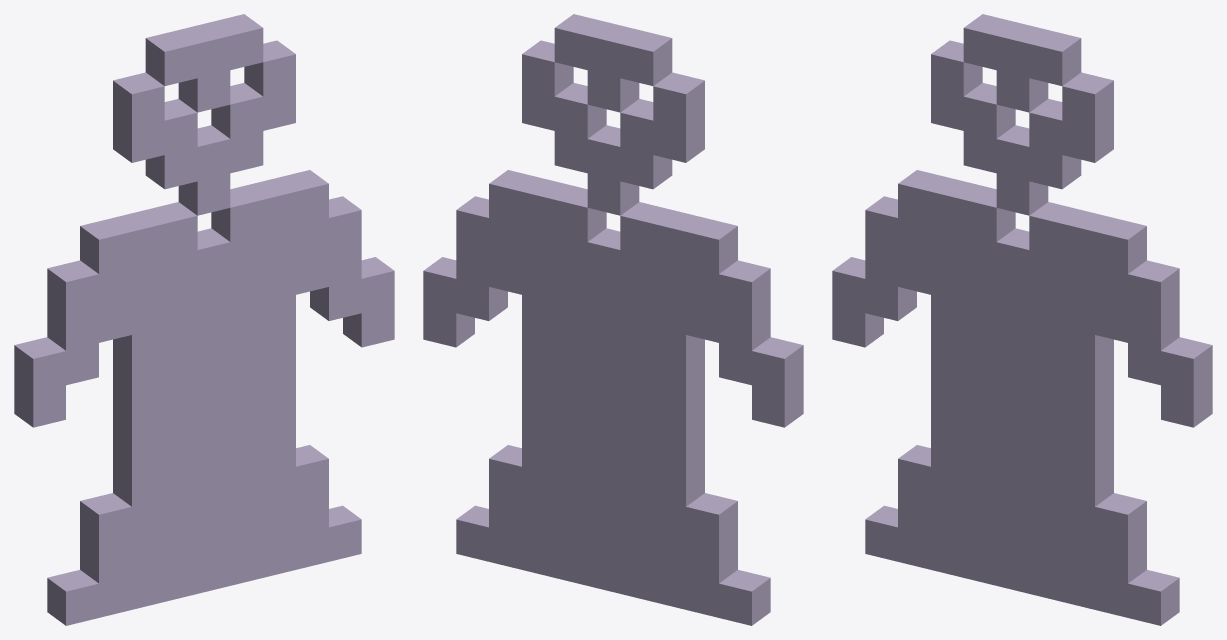
Rendered from Skeleton-Cloacked-Grey.vox.obj.
3 views of the same model, side by side, from view 1: azimuth 30°, elevation 25°; view 2: azimuth 150°, elevation 25°; view 3: azimuth 330°, elevation 25° (orthographic).
Size of the model in its own units: 1.1 by 1.6 by 0.1.
1 material, 1 textured.
